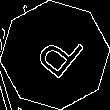P_SW: (25, 24, 85, 86)
